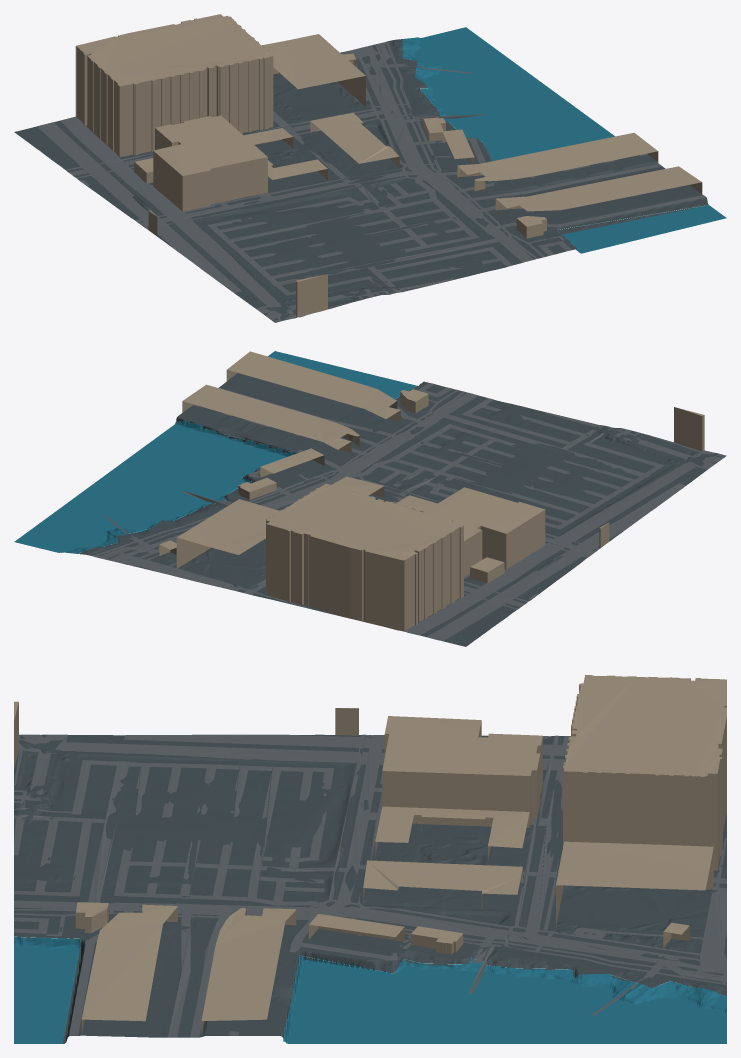
Rendered from epsg26910-1442-10887.lod0.glb.
3 views of the same model, one above another, from view 1: azimuth 30°, elevation 25°; view 2: azimuth 150°, elevation 25°; view 3: azimuth 270°, elevation 25° (orthographic). The views are drawn at different scales.
Visible parts, largest first — view 1: epsg26910-1442-10887-lod0; view 2: epsg26910-1442-10887-lod0; view 3: epsg26910-1442-10887-lod0.
Part boxes in pixels (box(x1,y1,x2,y2)): epsg26910-1442-10887-lod0: box(14, 14, 726, 322); epsg26910-1442-10887-lod0: box(14, 351, 726, 646); epsg26910-1442-10887-lod0: box(14, 675, 726, 1043).
Size of the model in its own units: 384 by 62.34 by 384.
